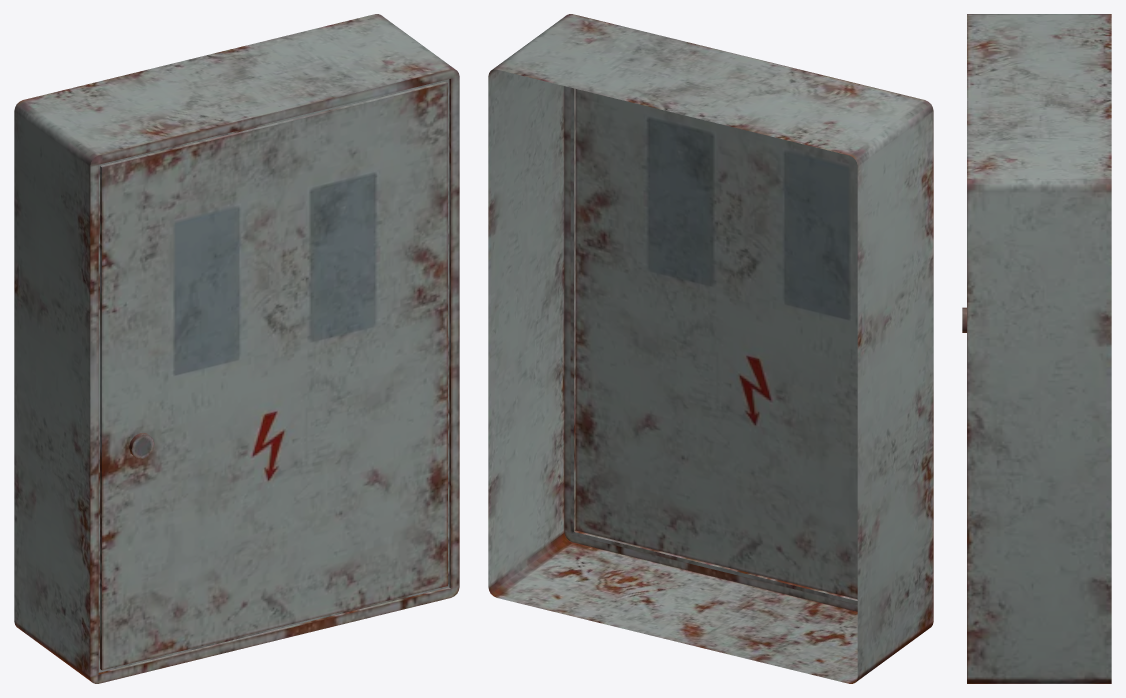
Rendered from elec-cabinet.lod0.glb.
3 views of the same model, side by side, from view 1: azimuth 30°, elevation 25°; view 2: azimuth 150°, elevation 25°; view 3: azimuth 270°, elevation 25° (orthographic). The views are drawn at different scales.
Parts seen in each view (by area): view 1: el_ormar_el_ormar_0; view 2: el_ormar_el_ormar_0; view 3: el_ormar_el_ormar_0.
Part boxes in pixels (box(x1,y1,x2,y2)): el_ormar_el_ormar_0: box(14, 14, 459, 683); el_ormar_el_ormar_0: box(488, 14, 933, 683); el_ormar_el_ormar_0: box(962, 14, 1111, 683).
Bounding box in the file's own units: 1.46 × 2 × 0.5379.
Materials: 1 (1 with a texture image).
